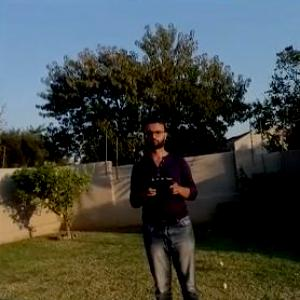follow: (124, 110, 208, 299)
